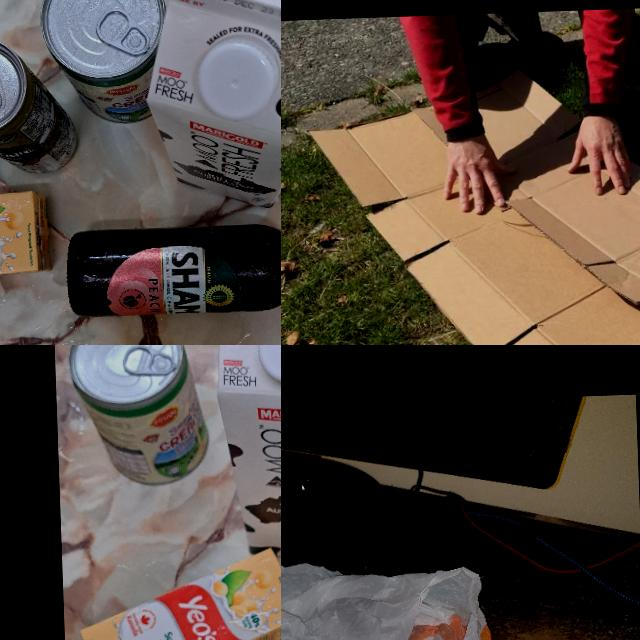aba de lata: (95, 6, 150, 57), (121, 345, 175, 375)
caixinha: (141, 0, 281, 212), (79, 547, 281, 640), (215, 345, 281, 562), (0, 188, 53, 280)
garrafa de vidro: (67, 219, 281, 317)
lata: (66, 345, 212, 489), (39, 0, 170, 124), (0, 33, 80, 179)
papelão: (307, 58, 640, 345)
tampa plástica: (194, 39, 280, 120), (256, 345, 281, 386)
